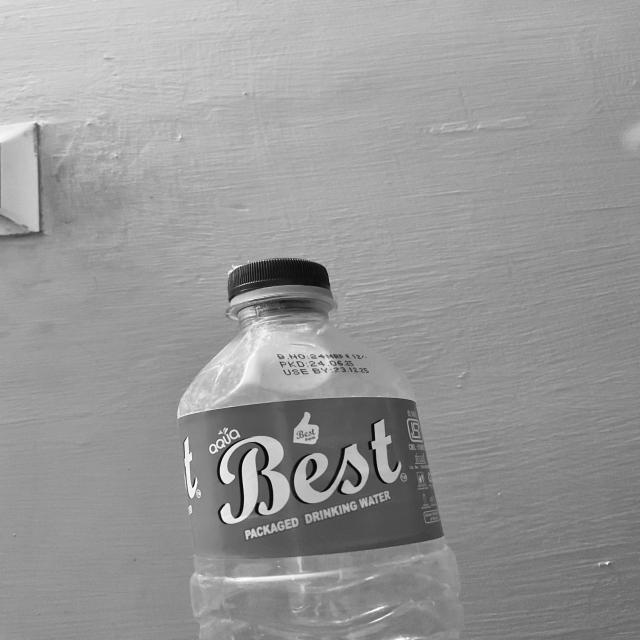Good-cap-Df0S: (216, 257, 344, 311)
